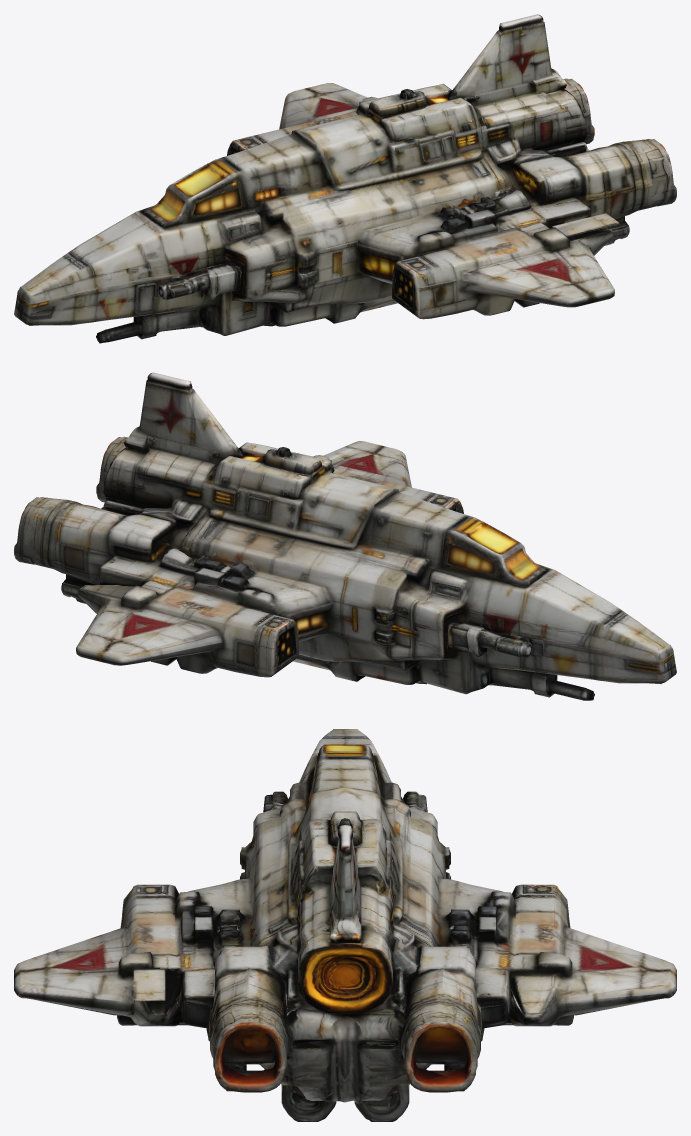
The model's file is Imperial_Fighter.glb.
The picture shows the model from 3 angles, top to bottom: view 1: azimuth 30°, elevation 25°; view 2: azimuth 150°, elevation 25°; view 3: azimuth 270°, elevation 25°; orthographic projection. The views are drawn at different scales.
Bounding box in the file's own units: 1.91 × 0.7397 × 1.56.
1 material, 1 textured.
